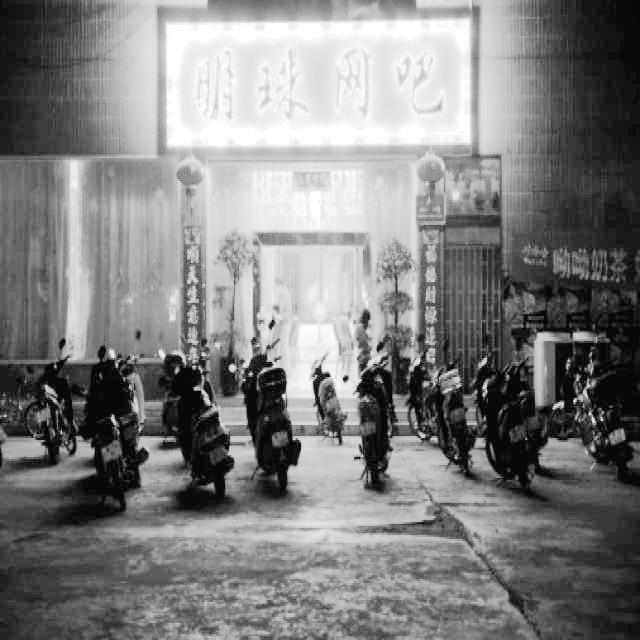Motorcycle: (549, 322, 630, 493), (87, 336, 153, 520), (165, 347, 236, 505), (244, 327, 299, 500), (18, 321, 82, 461), (353, 342, 403, 497), (475, 350, 527, 491), (428, 330, 470, 468), (302, 335, 345, 457)
